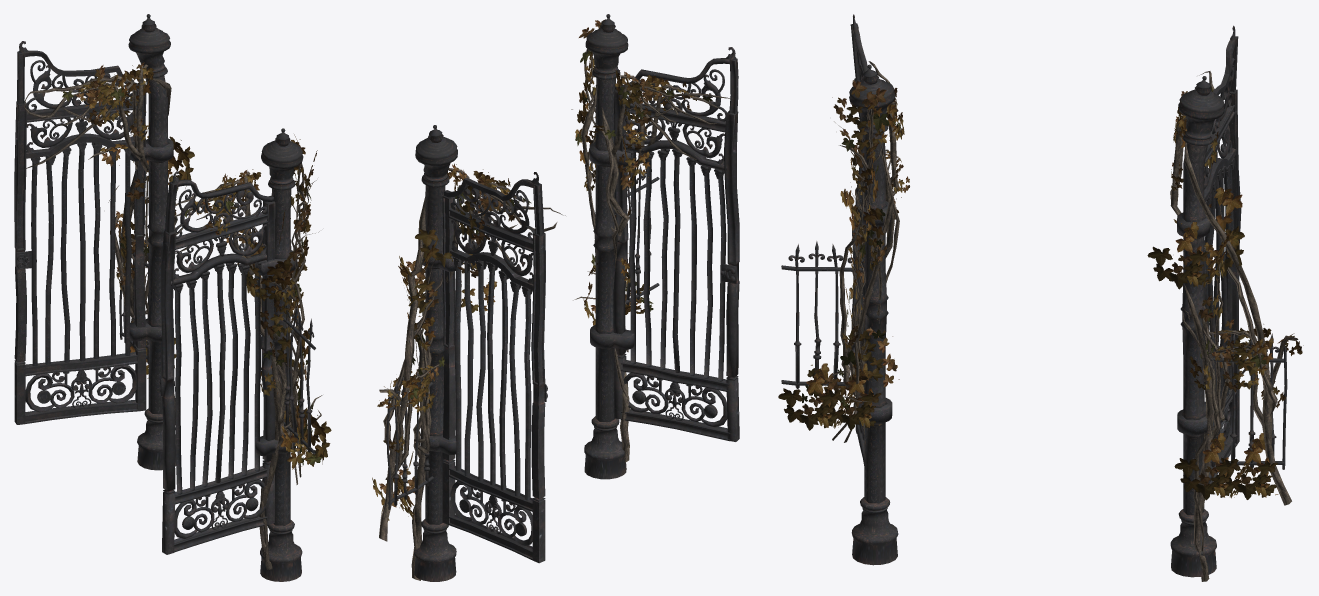
Rendered from gates_entrance.fbx.
3 renders of one model, left to right at view 1: azimuth 30°, elevation 25°; view 2: azimuth 150°, elevation 25°; view 3: azimuth 270°, elevation 25°, orthographic. The views are drawn at different scales.
Visible parts, largest first — view 1: o210500_006:2, o210500_006:1, o210500_006:3, o210500_007:1, o210500_008:1, o210500_009:1, o210500_007:R, o210500_010:1, o210500_010:R, o210500_008:R, o210500_007:L, o210500_009:R (+5 smaller); view 2: o210500_006:1, o210500_006:2, o210500_006:3, o210500_007:1, o210500_008:1, o210500_009:1, o210500_007:L, o210500_010:1, o210500_007:R, o210500_009:L, o210500_008:L, o210500_009:R (+4 smaller); view 3: o210500_006:3, o210500_007:1, o210500_009:1, o210500_006:1, o210500_008:1, o210500_010:1, o210500_006:2, o210500_011:1, o210500_007:R.
Boxes of the visible parts, <box> form: o210500_006:2: <box>159,171,275,554</box>; o210500_006:1: <box>14,41,146,424</box>; o210500_006:3: <box>119,14,315,581</box>; o210500_007:1: <box>115,78,322,569</box>; o210500_008:1: <box>110,115,325,469</box>; o210500_009:1: <box>115,146,331,466</box>; o210500_007:R: <box>22,64,149,182</box>; o210500_010:1: <box>115,134,325,464</box>; o210500_010:R: <box>75,62,149,201</box>; o210500_008:R: <box>82,63,154,202</box>; o210500_007:L: <box>164,171,257,274</box>; o210500_009:R: <box>78,67,149,152</box>; o210500_006:1: <box>442,172,547,563</box>; o210500_006:2: <box>613,47,739,441</box>; o210500_006:3: <box>386,14,659,581</box>; o210500_007:1: <box>379,49,635,580</box>; o210500_008:1: <box>377,36,644,519</box>; o210500_009:1: <box>372,57,649,520</box>; o210500_007:L: <box>611,75,733,164</box>; o210500_010:1: <box>379,19,638,507</box>; o210500_007:R: <box>446,168,565,283</box>; o210500_009:L: <box>622,74,694,175</box>; o210500_008:L: <box>615,70,674,177</box>; o210500_009:R: <box>455,167,515,312</box>; o210500_006:3: <box>781,64,1287,577</box>; o210500_007:1: <box>831,109,1298,581</box>; o210500_009:1: <box>778,104,1294,500</box>; o210500_006:1: <box>1204,25,1241,483</box>; o210500_008:1: <box>806,94,1303,498</box>; o210500_010:1: <box>802,80,1294,487</box>; o210500_006:2: <box>850,14,867,465</box>; o210500_011:1: <box>802,113,1266,410</box>; o210500_007:R: <box>1170,71,1214,215</box>.
Size of the model in its own units: 11938 by 27449 by 26797.
22 materials, 22 textured.
